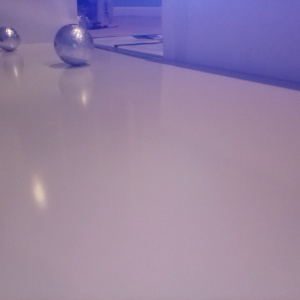alive_ball: (54, 24, 94, 66), (1, 26, 21, 52)
